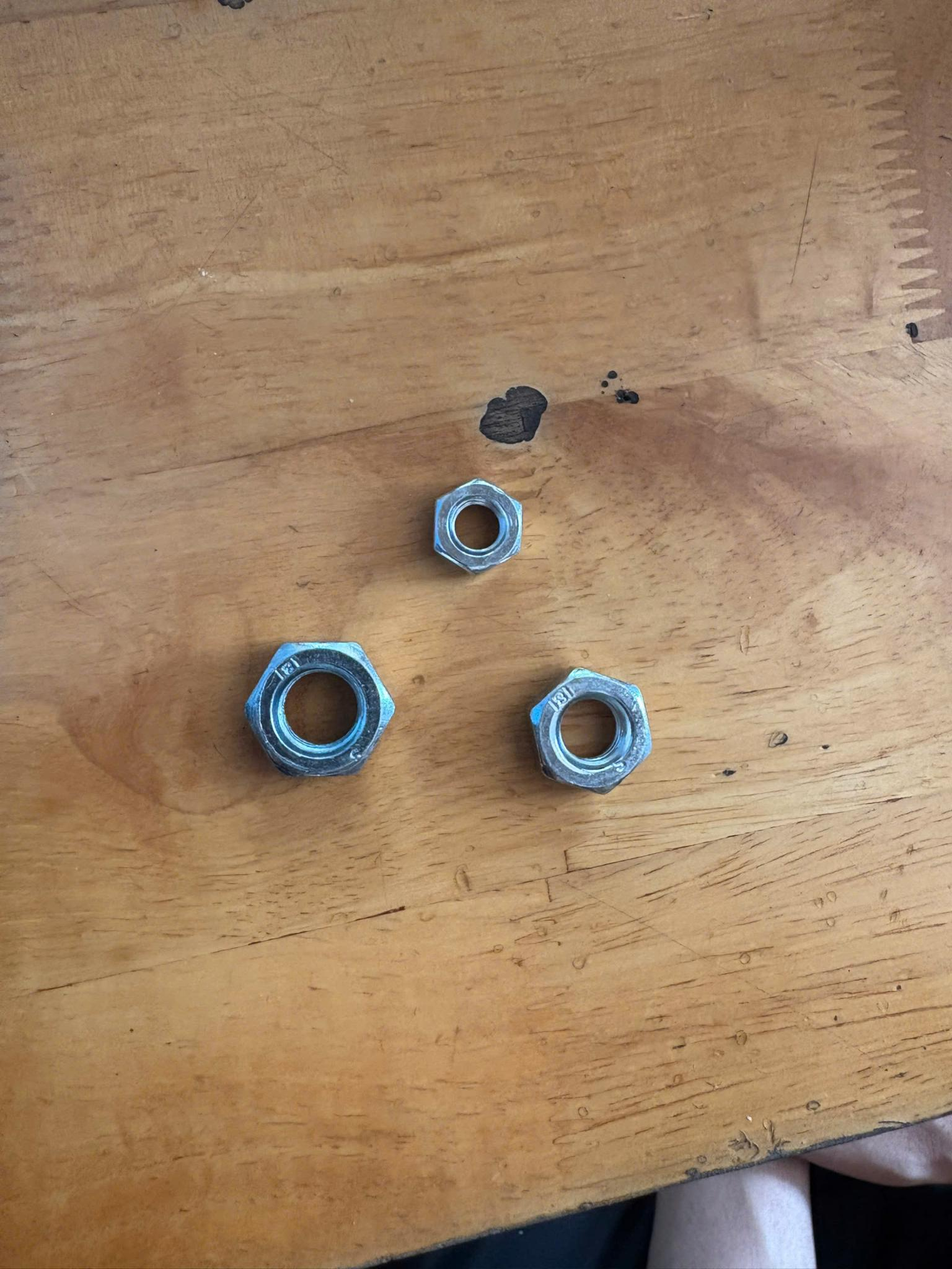nut: (240, 633, 407, 791), (424, 474, 524, 585)
